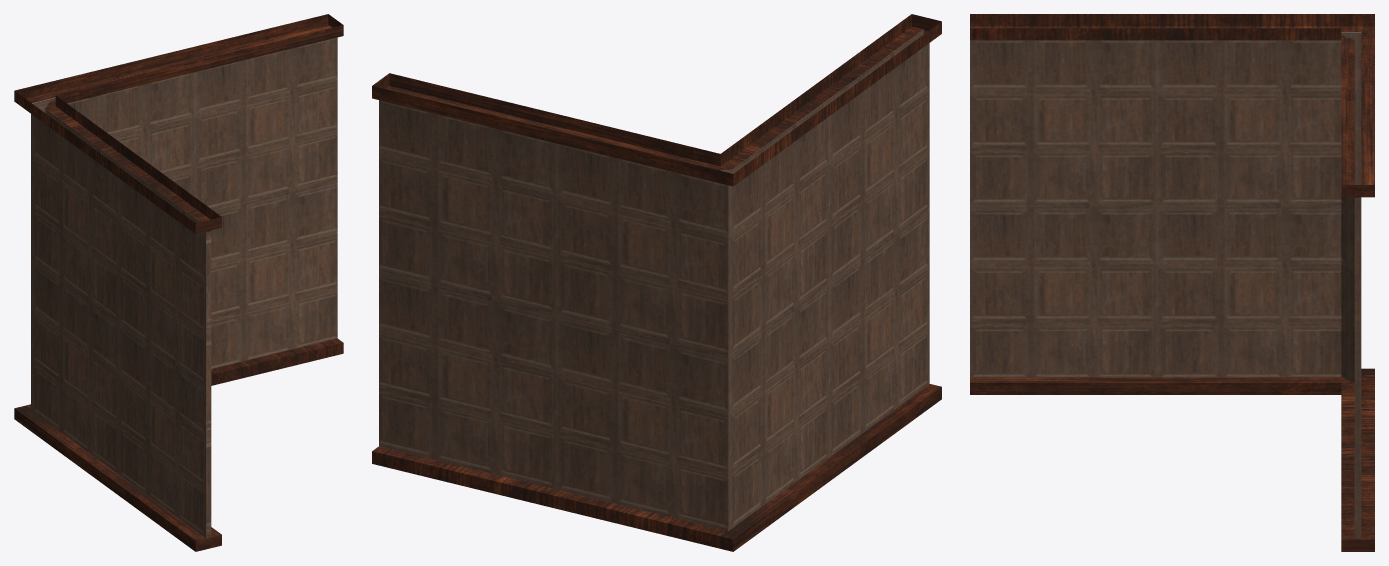
Rendered from bottom_corner.fbx.
3 views of the same model, side by side, from view 1: azimuth 30°, elevation 25°; view 2: azimuth 150°, elevation 25°; view 3: azimuth 270°, elevation 25° (orthographic). The views are drawn at different scales.
Visible parts, largest first — view 1: Convex_corner; view 2: Convex_corner; view 3: Convex_corner.
Boxes of the visible parts, <box> form: Convex_corner: <box>14,14,343,551</box>; Convex_corner: <box>372,14,941,551</box>; Convex_corner: <box>970,14,1374,551</box>.
Size of the model in its own units: 300 by 300 by 300.
